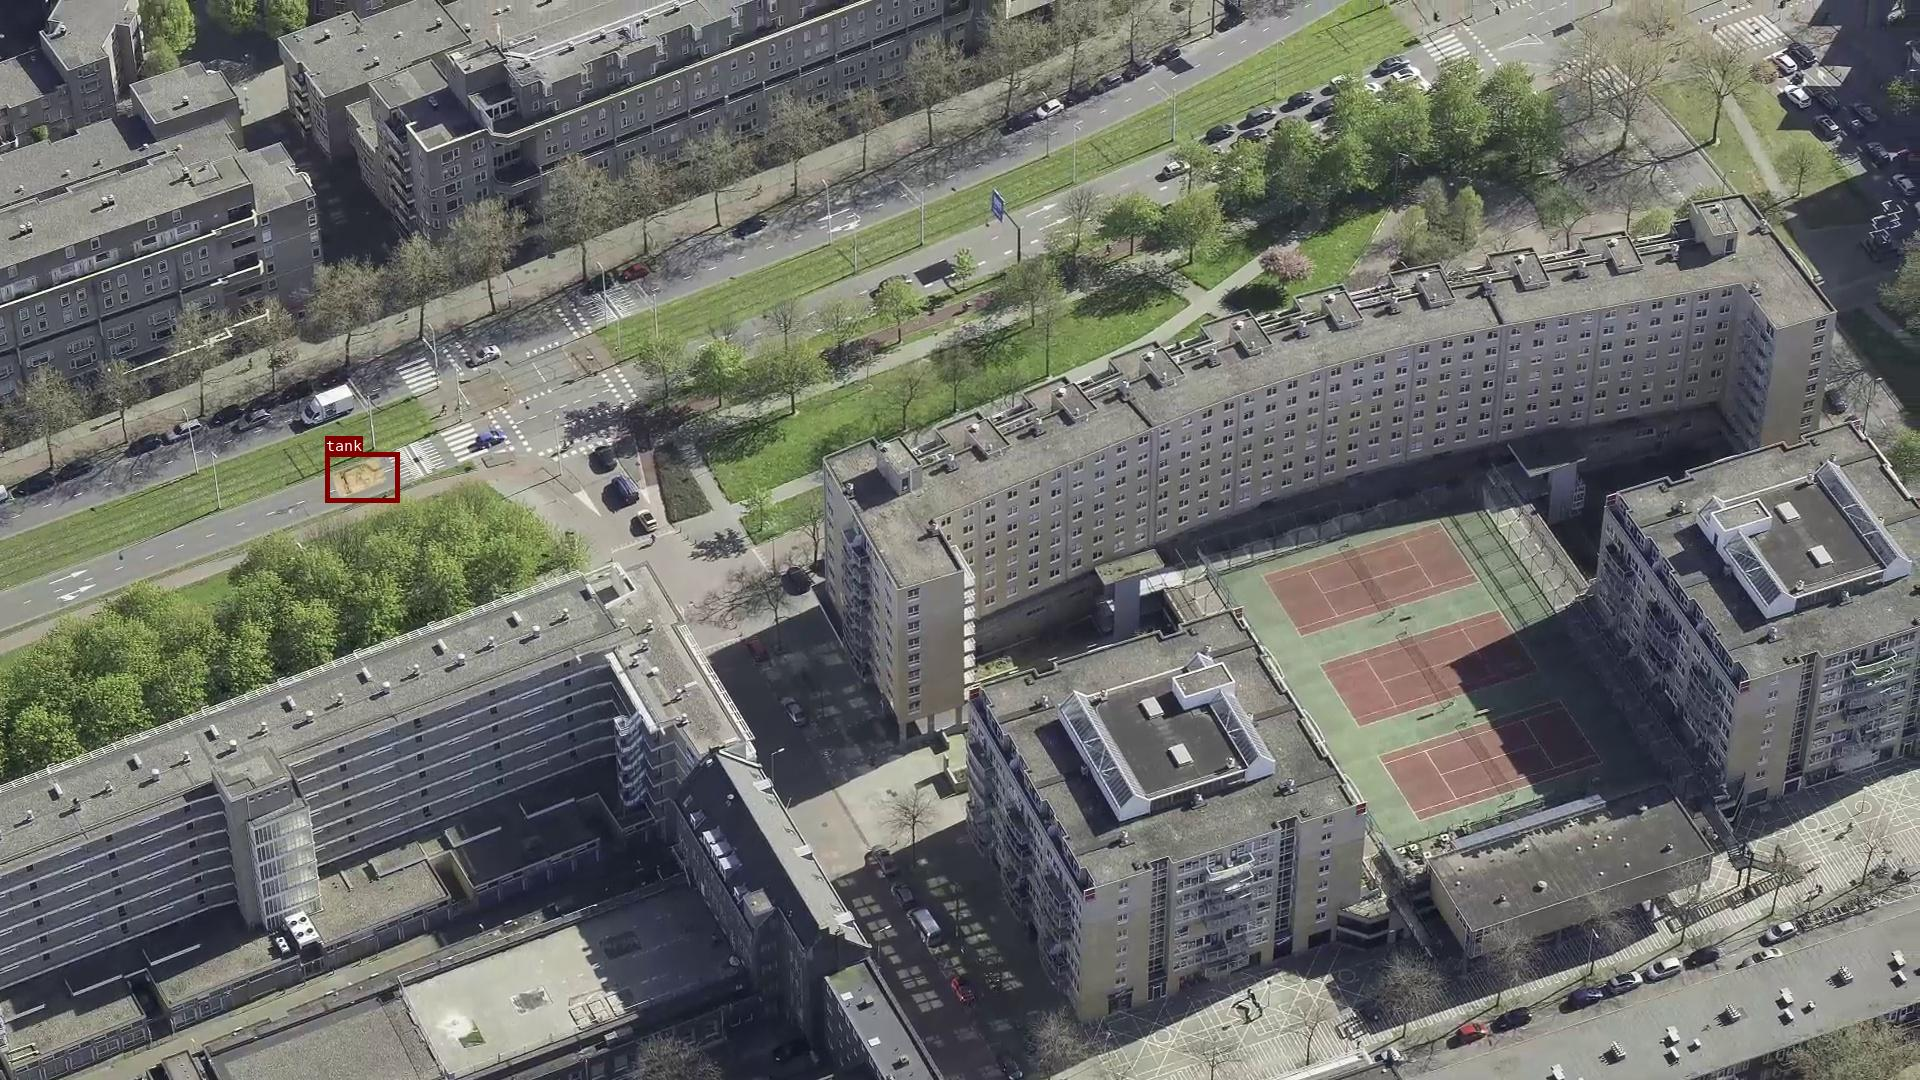tank: (324, 452, 400, 502)
